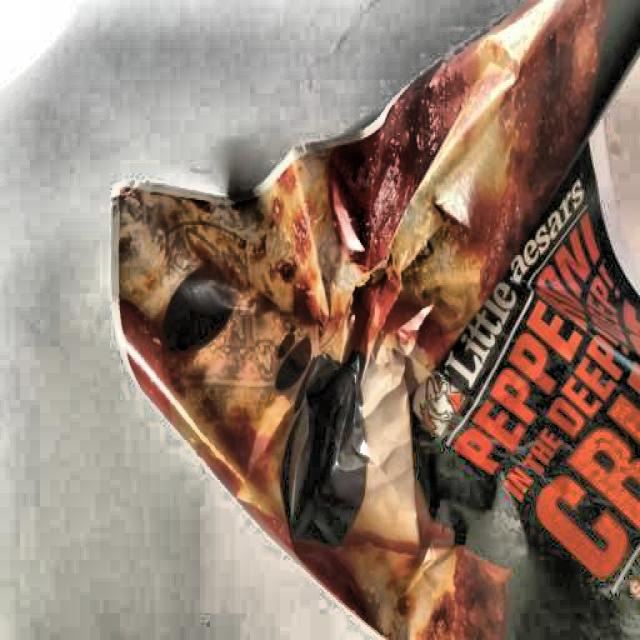paper: (112, 4, 640, 640)
